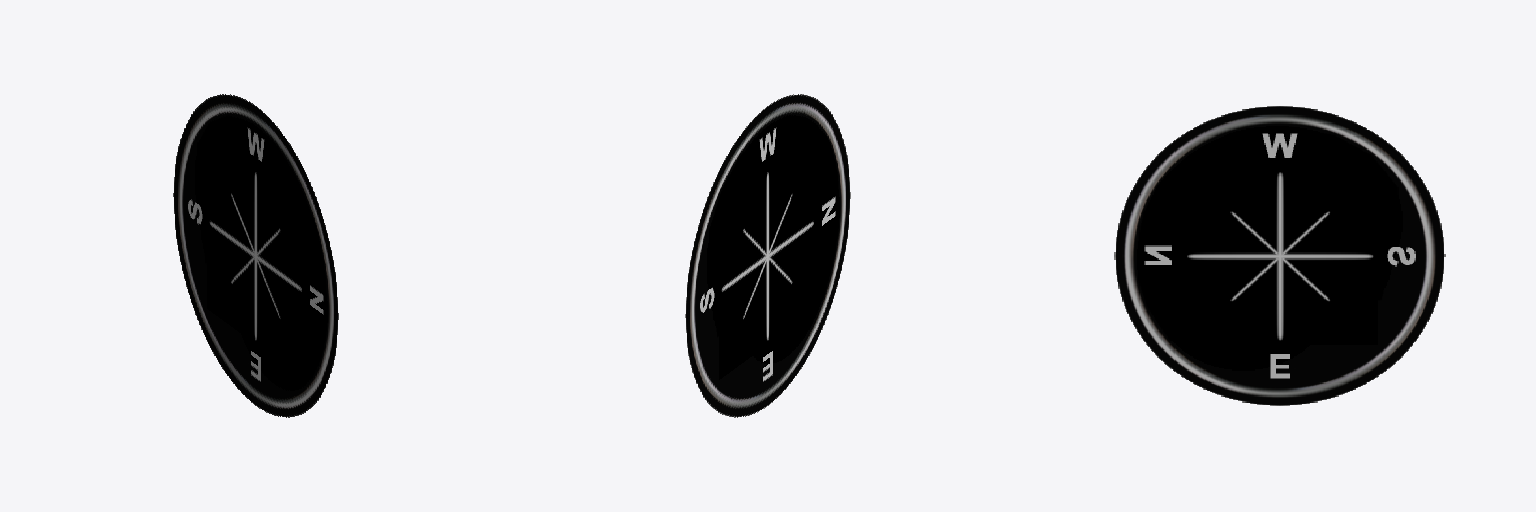
The picture shows the model from 3 angles: view 1: azimuth 30°, elevation 25°; view 2: azimuth 150°, elevation 25°; view 3: azimuth 270°, elevation 25°; orthographic projection.
Parts seen in each view (by area): view 1: 1_-_Default; view 2: 1_-_Default; view 3: 1_-_Default.
Part boxes in pixels (bbox=[...]): 1_-_Default: bbox=[173, 94, 338, 417]; 1_-_Default: bbox=[685, 94, 850, 417]; 1_-_Default: bbox=[1114, 106, 1445, 405].
Bounding box in the file's own units: 0 × 0.1 × 0.1.
Materials: 1 (1 with a texture image).